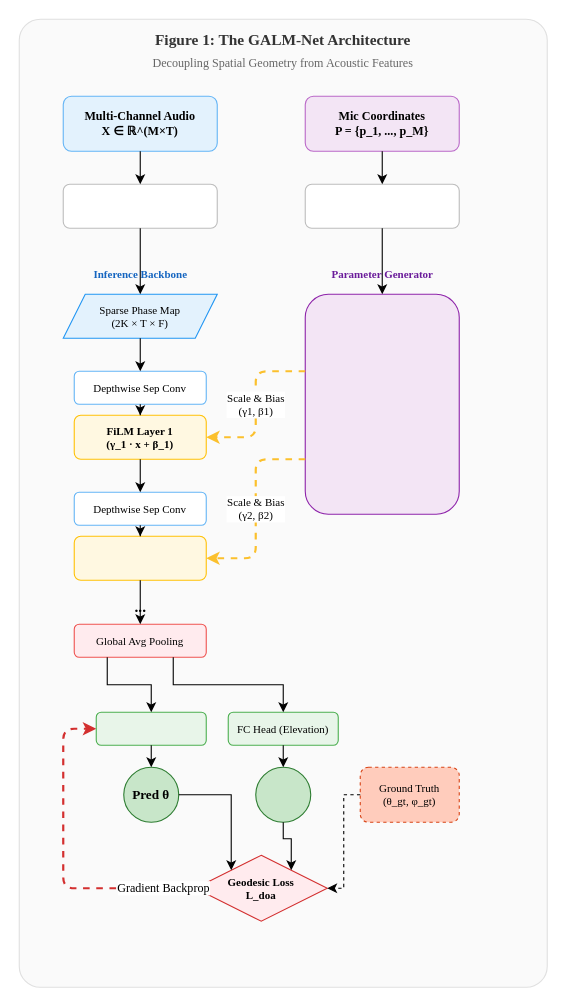
Image size: 567x1007. Some labels were removed from this diagram. The shapes that lost their labels are listed below. From the top down, each one's centre as x and y in pixels, then its label:
At point 139,205: "STFT & Phase Extraction Pairs Selection (K pairs)".
At point 381,205: "Pairwise Difference ΔP = {p_i - p_j}".
At point 381,403: "Hypernetwork (MLP) Φ Parameters".
At point 139,557: "FiLM Layer 2 (γ_2 · x + β_2)".
At point 150,728: "FC Head (Azimuth)".
At point 283,794: "Pred φ".
